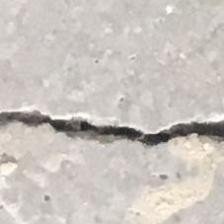Crack: (0, 95, 224, 161)
